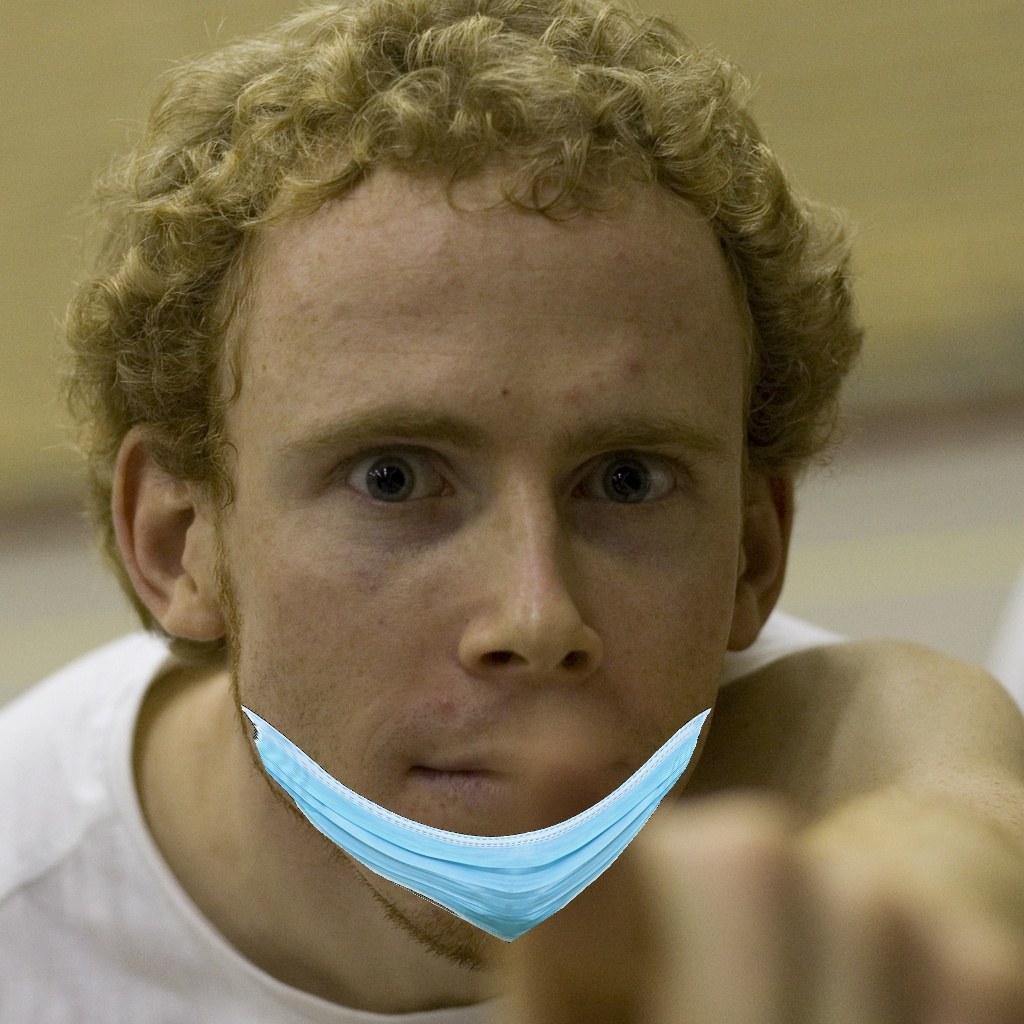mascarilla_mal_puesta: (219, 405, 749, 945)
